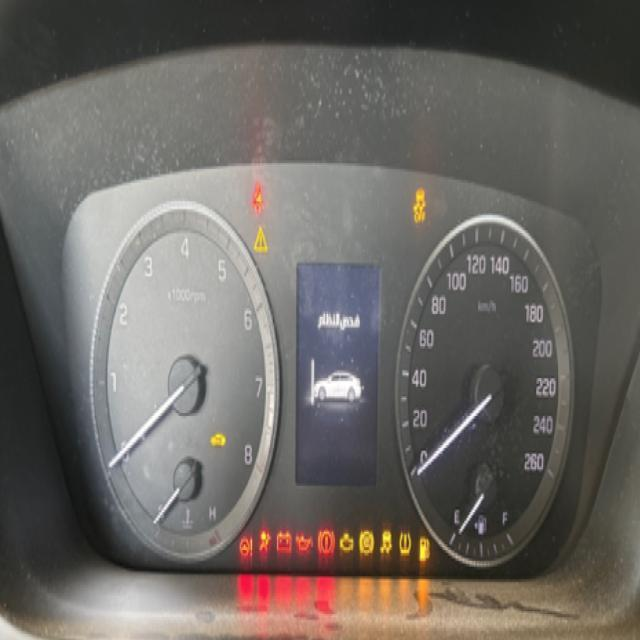Electronic Power Steering: (235, 527, 255, 567)
Seat Belt: (251, 178, 265, 218)
